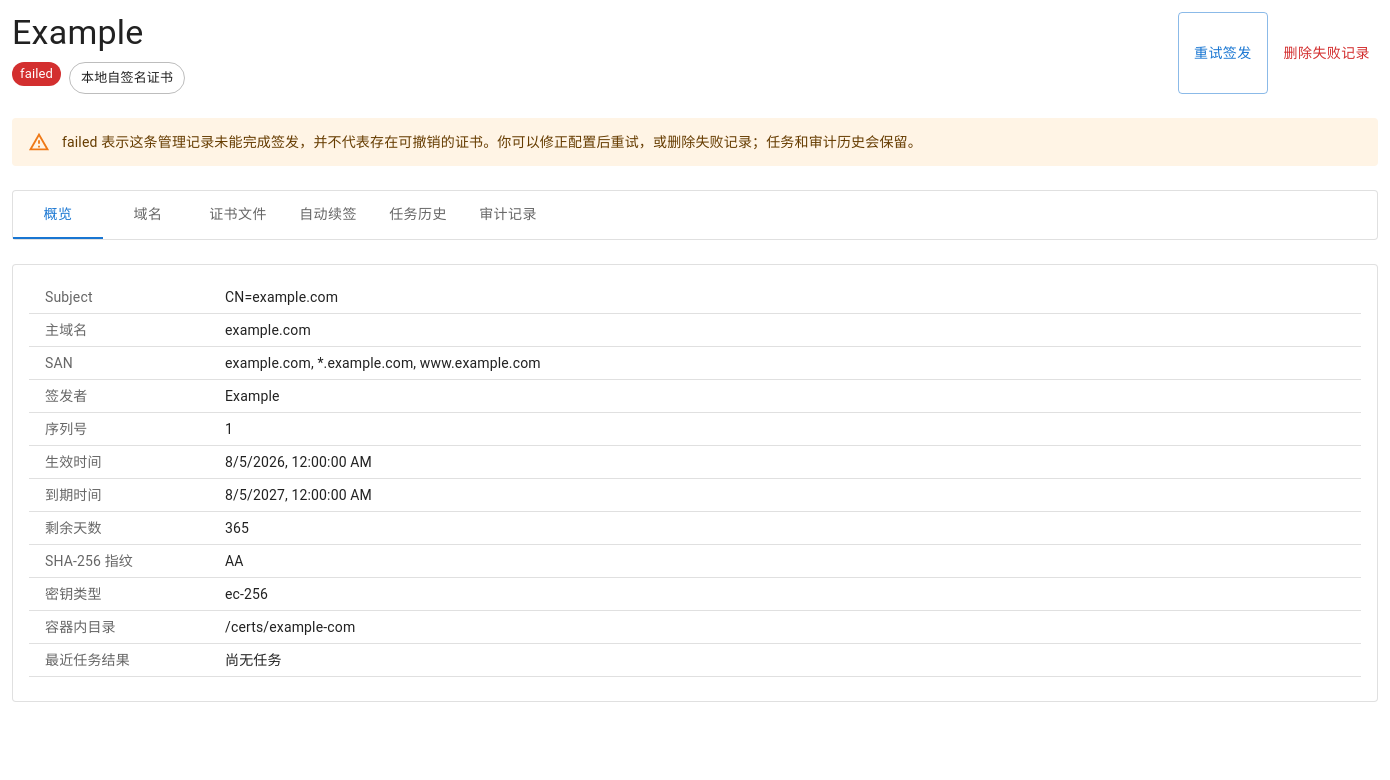
Test: 旧失败证书重试时显示通配符冗余错误
Step 1. Click the button "重试签发" → (1223, 53), box [1178,12,1268,94]
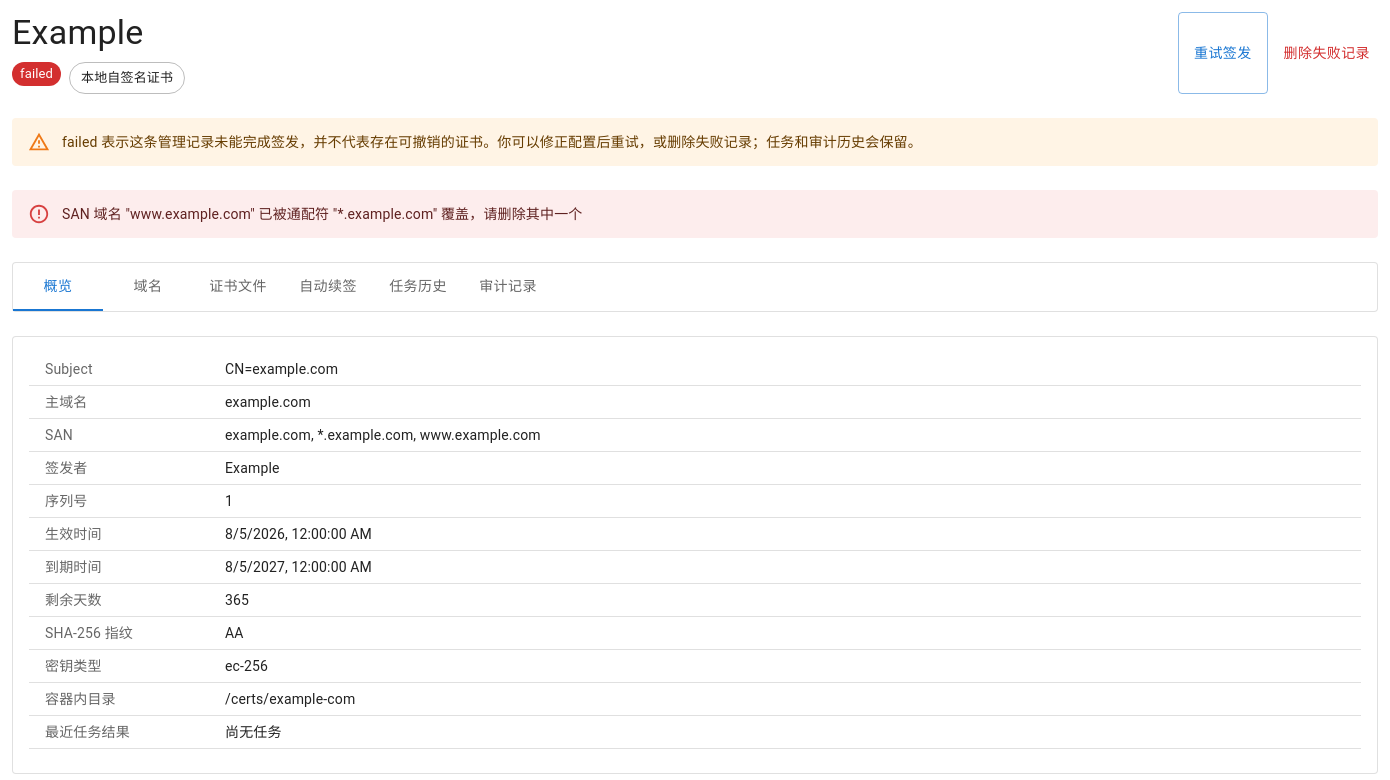
Check: the text "SAN 域名 \"www.example.com\" 已被通配符 \"*.example.com\" 覆盖，请删除其中一个" is shown, box [62,206,582,222]
